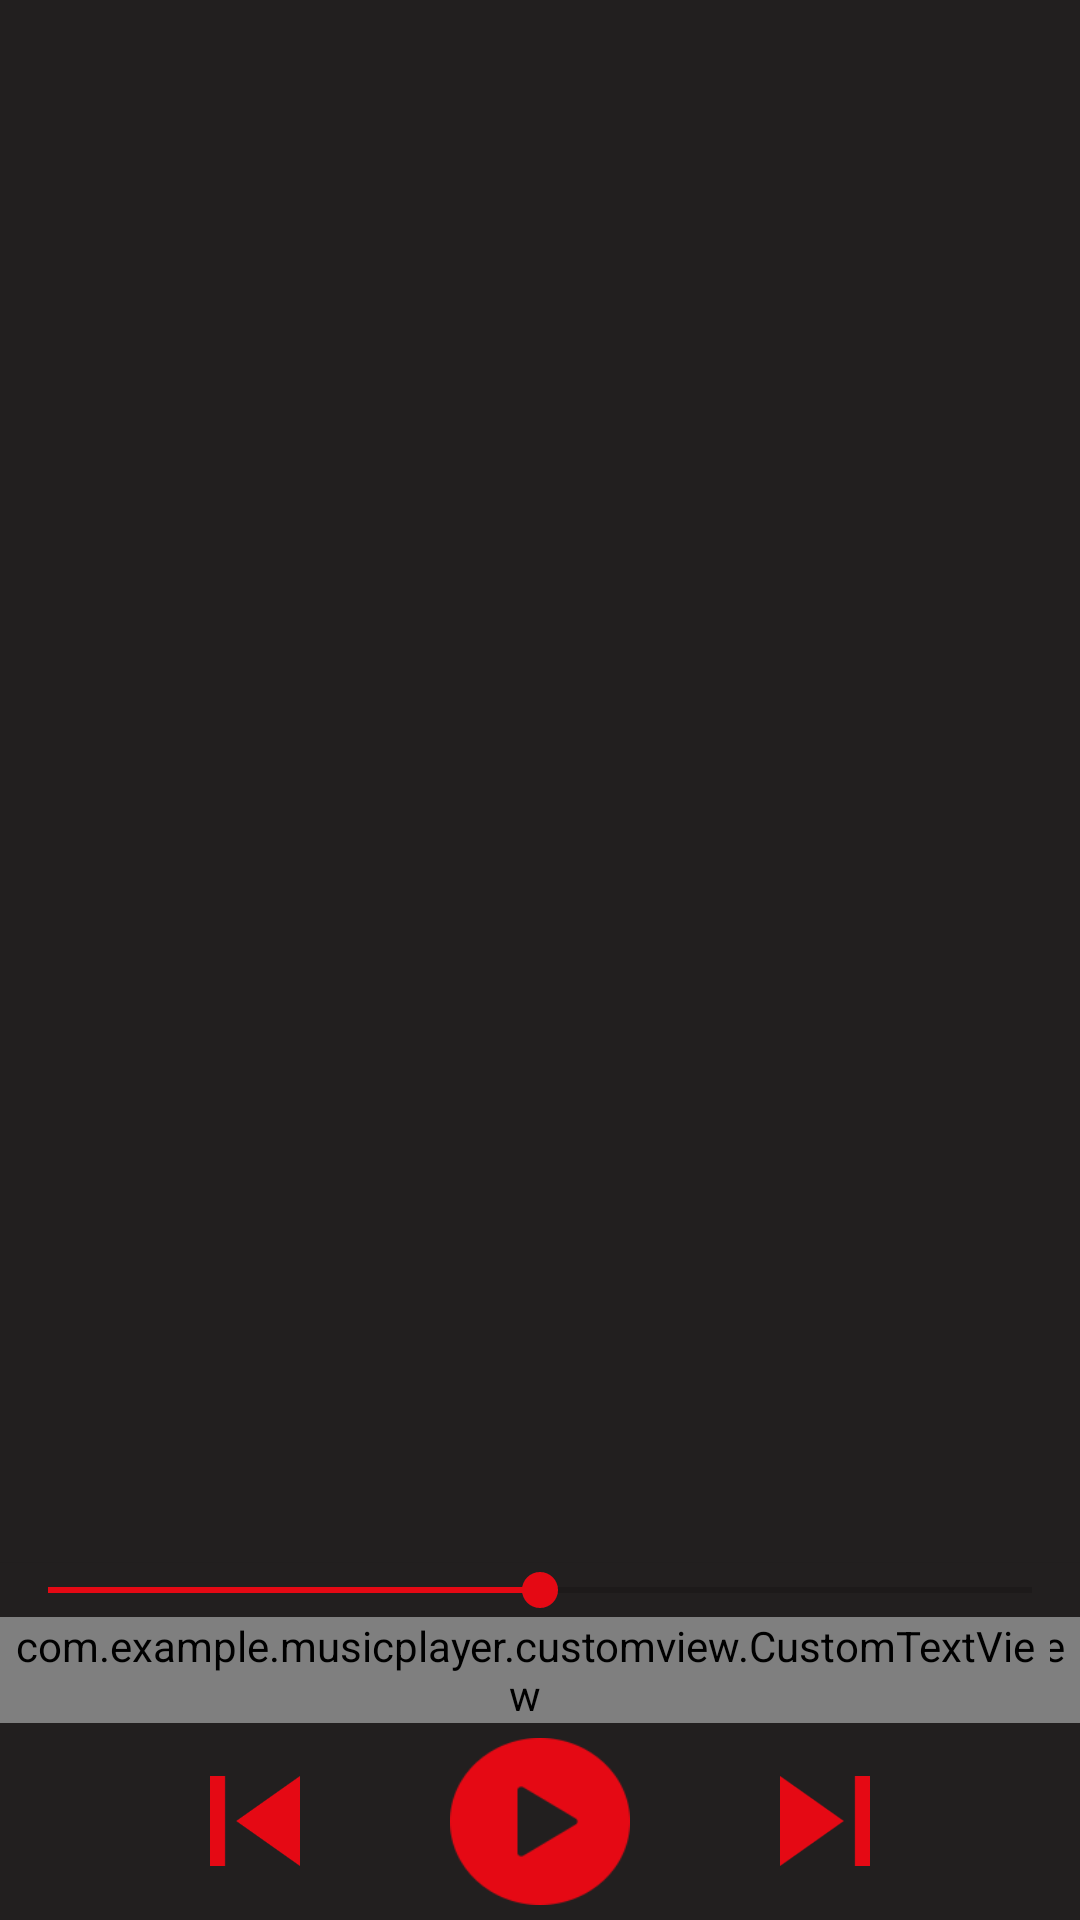

Icon click points for this 1080px x 1920px phone screenshot, format [x,y]:
next music: [825,1821]
play music: [540,1821]
previous music: [255,1821]
